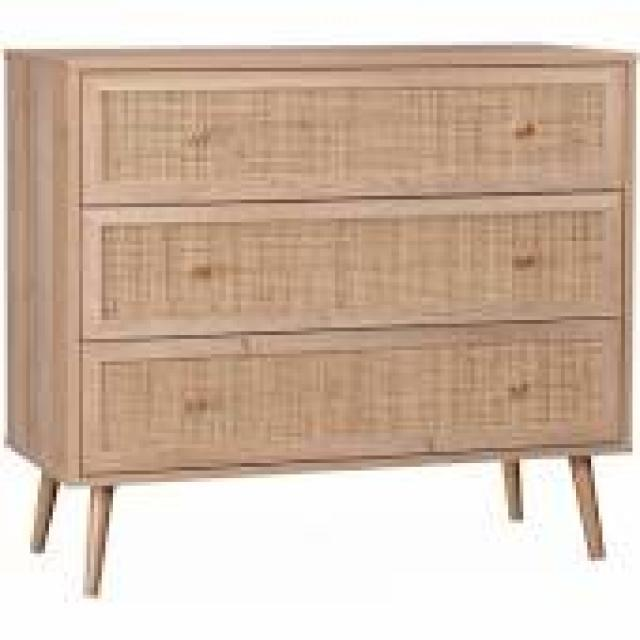mobile-phone: (3, 33, 640, 590)
